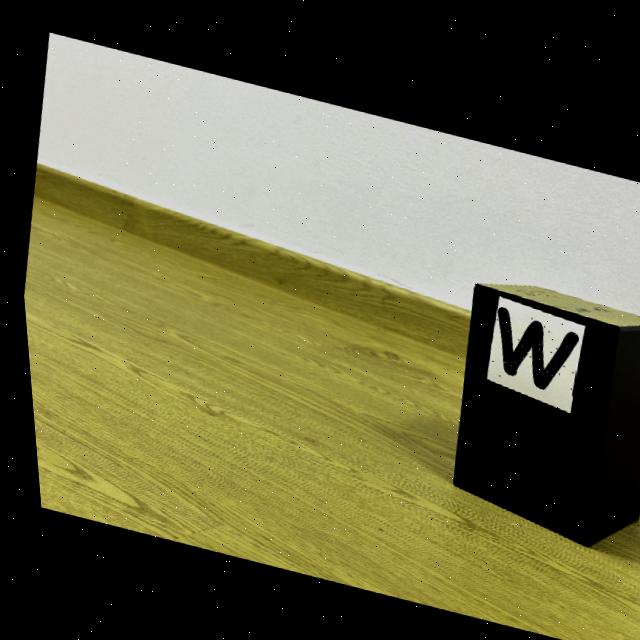W: (493, 299, 574, 380)
